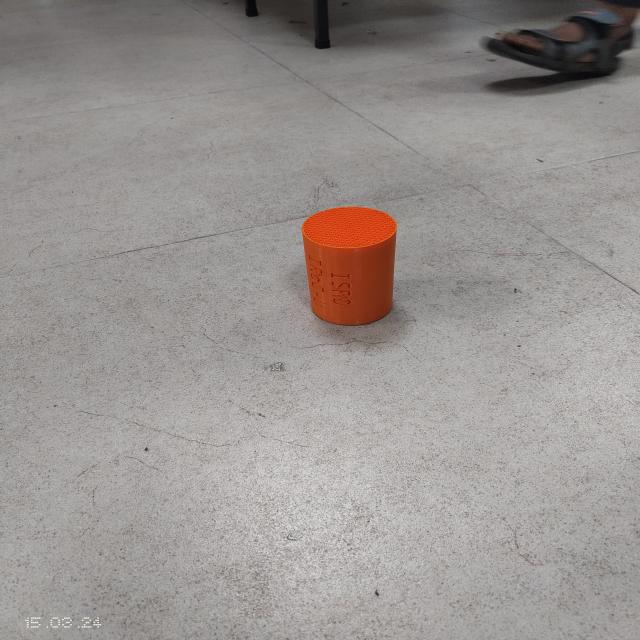Cylinder: (300, 206, 398, 326)
